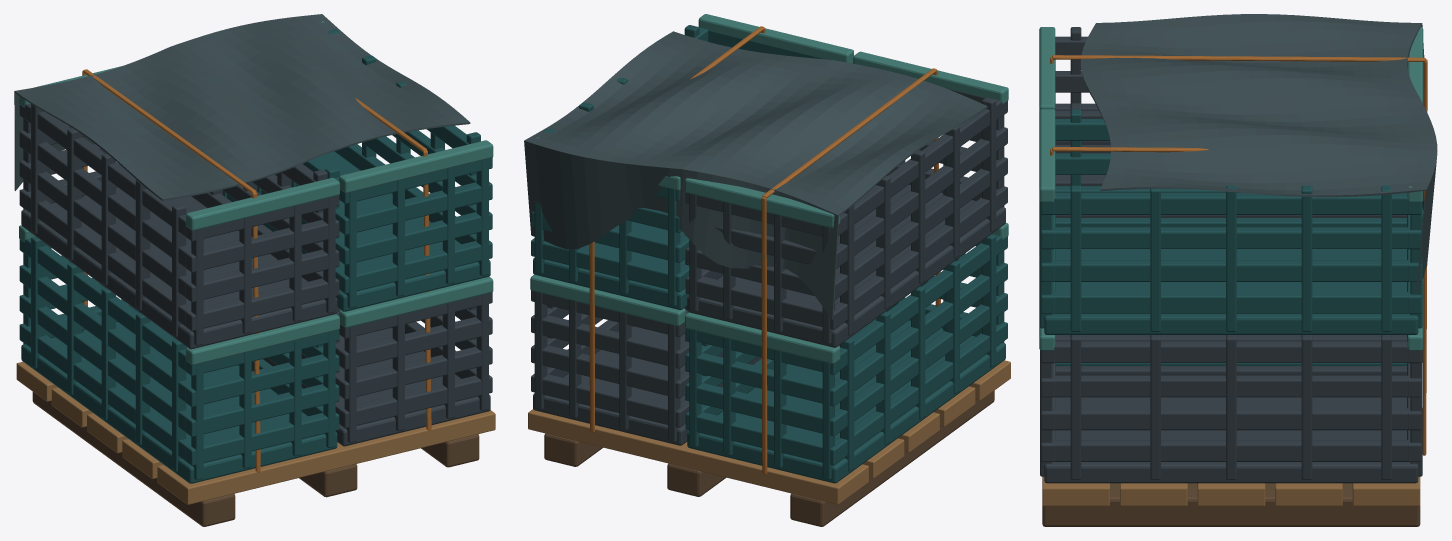
File: MuatanPasar.fbx
The picture shows the model from 3 angles, left to right: view 1: azimuth 30°, elevation 25°; view 2: azimuth 150°, elevation 25°; view 3: azimuth 270°, elevation 25°; orthographic projection. The views are drawn at different scales.
Visible parts, largest first — view 1: MuatanPasar; view 2: MuatanPasar; view 3: MuatanPasar.
Part boxes in pixels (x1,y1,x2,y2): MuatanPasar: (14,14,495,526); MuatanPasar: (524,14,1010,526); MuatanPasar: (1039,14,1437,526).
Bounding box in the file's own units: 99.24 × 100 × 100.
